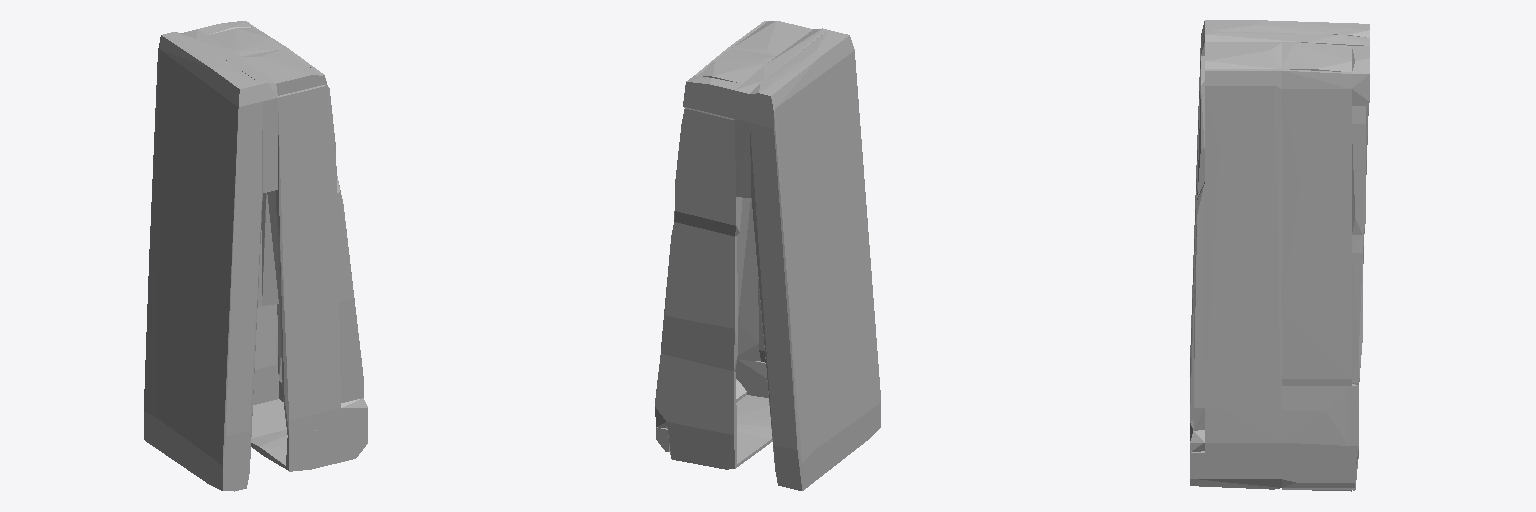
robot.urdf — root:
<robot name="root"><link name="link_1a4daa4904bb4a0949684e7f0bb99f9c_0000"><inertial><origin rpy="0 0 0" xyz="0 0 0" /><mass value="2.23E-01" /><inertia ixx="2.77E-04" ixy="-4.29E-07" ixz="-1.67E-05" iyy="2.97E-04" iyz="-6.34E-06" izz="8.98E-05" /></inertial><visual><origin rpy="0 0 0" xyz="0 0 0" /><geometry><mesh filename="package://1a4daa4904bb4a0949684e7f0bb99f9c/1a4daa4904bb4a0949684e7f0bb99f9c_0000.obj" /></geometry><material name=""><color rgba="0.75 0.75 0.75 1" /></material></visual><collision><origin rpy="0 0 0" xyz="0 0 0" /><geometry><mesh filename="package://1a4daa4904bb4a0949684e7f0bb99f9c/1a4daa4904bb4a0949684e7f0bb99f9c_0000.obj" /></geometry></collision></link><link name="link_1a4daa4904bb4a0949684e7f0bb99f9c_0001"><inertial><origin rpy="0 0 0" xyz="0 0 0" /><mass value="3.27E-02" /><inertia ixx="6.57E-05" ixy="2.87E-07" ixz="8.74E-06" iyy="6.20E-05" iyz="-1.81E-06" izz="6.44E-06" /></inertial><visual><origin rpy="0 0 0" xyz="0 0 0" /><geometry><mesh filename="package://1a4daa4904bb4a0949684e7f0bb99f9c/1a4daa4904bb4a0949684e7f0bb99f9c_0001.obj" /></geometry><material name=""><color rgba="0.75 0.75 0.75 1" /></material></visual><collision><origin rpy="0 0 0" xyz="0 0 0" /><geometry><mesh filename="package://1a4daa4904bb4a0949684e7f0bb99f9c/1a4daa4904bb4a0949684e7f0bb99f9c_0001.obj" /></geometry></collision></link><joint name="link_1a4daa4904bb4a0949684e7f0bb99f9c_0001_joint" type="fixed"><origin rpy="0 0 0" xyz="0 0 0" /><parent link="link_1a4daa4904bb4a0949684e7f0bb99f9c_0000" /><child link="link_1a4daa4904bb4a0949684e7f0bb99f9c_0001" /></joint><link name="link_1a4daa4904bb4a0949684e7f0bb99f9c_0002"><inertial><origin rpy="0 0 0" xyz="0 0 0" /><mass value="2.33E-03" /><inertia ixx="7.33E-06" ixy="5.36E-07" ixz="1.25E-06" iyy="6.55E-06" iyz="-2.65E-06" izz="1.50E-06" /></inertial><visual><origin rpy="0 0 0" xyz="0 0 0" /><geometry><mesh filename="package://1a4daa4904bb4a0949684e7f0bb99f9c/1a4daa4904bb4a0949684e7f0bb99f9c_0002.obj" /></geometry><material name=""><color rgba="0.75 0.75 0.75 1" /></material></visual><collision><origin rpy="0 0 0" xyz="0 0 0" /><geometry><mesh filename="package://1a4daa4904bb4a0949684e7f0bb99f9c/1a4daa4904bb4a0949684e7f0bb99f9c_0002.obj" /></geometry></collision></link><joint name="link_1a4daa4904bb4a0949684e7f0bb99f9c_0002_joint" type="fixed"><origin rpy="0 0 0" xyz="0 0 0" /><parent link="link_1a4daa4904bb4a0949684e7f0bb99f9c_0001" /><child link="link_1a4daa4904bb4a0949684e7f0bb99f9c_0002" /></joint><link name="link_1a4daa4904bb4a0949684e7f0bb99f9c_0003"><inertial><origin rpy="0 0 0" xyz="0 0 0" /><mass value="4.14E-03" /><inertia ixx="1.38E-05" ixy="3.32E-07" ixz="1.87E-06" iyy="1.36E-05" iyz="-2.38E-06" izz="9.66E-07" /></inertial><visual><origin rpy="0 0 0" xyz="0 0 0" /><geometry><mesh filename="package://1a4daa4904bb4a0949684e7f0bb99f9c/1a4daa4904bb4a0949684e7f0bb99f9c_0003.obj" /></geometry><material name=""><color rgba="0.75 0.75 0.75 1" /></material></visual><collision><origin rpy="0 0 0" xyz="0 0 0" /><geometry><mesh filename="package://1a4daa4904bb4a0949684e7f0bb99f9c/1a4daa4904bb4a0949684e7f0bb99f9c_0003.obj" /></geometry></collision></link><joint name="link_1a4daa4904bb4a0949684e7f0bb99f9c_0003_joint" type="fixed"><origin rpy="0 0 0" xyz="0 0 0" /><parent link="link_1a4daa4904bb4a0949684e7f0bb99f9c_0002" /><child link="link_1a4daa4904bb4a0949684e7f0bb99f9c_0003" /></joint><link name="link_1a4daa4904bb4a0949684e7f0bb99f9c_0004"><inertial><origin rpy="0 0 0" xyz="0 0 0" /><mass value="2.33E-03" /><inertia ixx="3.03E-06" ixy="-5.99E-07" ixz="-8.08E-07" iyy="2.41E-06" iyz="-1.34E-06" izz="1.36E-06" /></inertial><visual><origin rpy="0 0 0" xyz="0 0 0" /><geometry><mesh filename="package://1a4daa4904bb4a0949684e7f0bb99f9c/1a4daa4904bb4a0949684e7f0bb99f9c_0004.obj" /></geometry><material name=""><color rgba="0.75 0.75 0.75 1" /></material></visual><collision><origin rpy="0 0 0" xyz="0 0 0" /><geometry><mesh filename="package://1a4daa4904bb4a0949684e7f0bb99f9c/1a4daa4904bb4a0949684e7f0bb99f9c_0004.obj" /></geometry></collision></link><joint name="link_1a4daa4904bb4a0949684e7f0bb99f9c_0004_joint" type="fixed"><origin rpy="0 0 0" xyz="0 0 0" /><parent link="link_1a4daa4904bb4a0949684e7f0bb99f9c_0003" /><child link="link_1a4daa4904bb4a0949684e7f0bb99f9c_0004" /></joint><link name="link_1a4daa4904bb4a0949684e7f0bb99f9c_0005"><inertial><origin rpy="0 0 0" xyz="0 0 0" /><mass value="1.50E-02" /><inertia ixx="1.74E-05" ixy="1.61E-06" ixz="2.17E-08" iyy="1.16E-05" iyz="1.90E-07" izz="7.30E-06" /></inertial><visual><origin rpy="0 0 0" xyz="0 0 0" /><geometry><mesh filename="package://1a4daa4904bb4a0949684e7f0bb99f9c/1a4daa4904bb4a0949684e7f0bb99f9c_0005.obj" /></geometry><material name=""><color rgba="0.75 0.75 0.75 1" /></material></visual><collision><origin rpy="0 0 0" xyz="0 0 0" /><geometry><mesh filename="package://1a4daa4904bb4a0949684e7f0bb99f9c/1a4daa4904bb4a0949684e7f0bb99f9c_0005.obj" /></geometry></collision></link><joint name="link_1a4daa4904bb4a0949684e7f0bb99f9c_0005_joint" type="fixed"><origin rpy="0 0 0" xyz="0 0 0" /><parent link="link_1a4daa4904bb4a0949684e7f0bb99f9c_0004" /><child link="link_1a4daa4904bb4a0949684e7f0bb99f9c_0005" /></joint><link name="link_1a4daa4904bb4a0949684e7f0bb99f9c_0006"><inertial><origin rpy="0 0 0" xyz="0 0 0" /><mass value="3.67E-02" /><inertia ixx="7.59E-05" ixy="6.70E-07" ixz="-3.31E-06" iyy="7.21E-05" iyz="1.48E-05" izz="5.00E-06" /></inertial><visual><origin rpy="0 0 0" xyz="0 0 0" /><geometry><mesh filename="package://1a4daa4904bb4a0949684e7f0bb99f9c/1a4daa4904bb4a0949684e7f0bb99f9c_0006.obj" /></geometry><material name=""><color rgba="0.75 0.75 0.75 1" /></material></visual><collision><origin rpy="0 0 0" xyz="0 0 0" /><geometry><mesh filename="package://1a4daa4904bb4a0949684e7f0bb99f9c/1a4daa4904bb4a0949684e7f0bb99f9c_0006.obj" /></geometry></collision></link><joint name="link_1a4daa4904bb4a0949684e7f0bb99f9c_0006_joint" type="fixed"><origin rpy="0 0 0" xyz="0 0 0" /><parent link="link_1a4daa4904bb4a0949684e7f0bb99f9c_0005" /><child link="link_1a4daa4904bb4a0949684e7f0bb99f9c_0006" /></joint><link name="link_1a4daa4904bb4a0949684e7f0bb99f9c_0007"><inertial><origin rpy="0 0 0" xyz="0 0 0" /><mass value="2.07E-02" /><inertia ixx="2.05E-05" ixy="3.11E-06" ixz="7.16E-08" iyy="2.37E-05" iyz="1.03E-06" izz="8.08E-06" /></inertial><visual><origin rpy="0 0 0" xyz="0 0 0" /><geometry><mesh filename="package://1a4daa4904bb4a0949684e7f0bb99f9c/1a4daa4904bb4a0949684e7f0bb99f9c_0007.obj" /></geometry><material name=""><color rgba="0.75 0.75 0.75 1" /></material></visual><collision><origin rpy="0 0 0" xyz="0 0 0" /><geometry><mesh filename="package://1a4daa4904bb4a0949684e7f0bb99f9c/1a4daa4904bb4a0949684e7f0bb99f9c_0007.obj" /></geometry></collision></link><joint name="link_1a4daa4904bb4a0949684e7f0bb99f9c_0007_joint" type="fixed"><origin rpy="0 0 0" xyz="0 0 0" /><parent link="link_1a4daa4904bb4a0949684e7f0bb99f9c_0006" /><child link="link_1a4daa4904bb4a0949684e7f0bb99f9c_0007" /></joint><link name="link_1a4daa4904bb4a0949684e7f0bb99f9c_0008"><inertial><origin rpy="0 0 0" xyz="0 0 0" /><mass value="3.76E-03" /><inertia ixx="1.27E-05" ixy="-3.49E-07" ixz="2.00E-06" iyy="1.27E-05" iyz="2.15E-06" izz="9.21E-07" /></inertial><visual><origin rpy="0 0 0" xyz="0 0 0" /><geometry><mesh filename="package://1a4daa4904bb4a0949684e7f0bb99f9c/1a4daa4904bb4a0949684e7f0bb99f9c_0008.obj" /></geometry><material name=""><color rgba="0.75 0.75 0.75 1" /></material></visual><collision><origin rpy="0 0 0" xyz="0 0 0" /><geometry><mesh filename="package://1a4daa4904bb4a0949684e7f0bb99f9c/1a4daa4904bb4a0949684e7f0bb99f9c_0008.obj" /></geometry></collision></link><joint name="link_1a4daa4904bb4a0949684e7f0bb99f9c_0008_joint" type="fixed"><origin rpy="0 0 0" xyz="0 0 0" /><parent link="link_1a4daa4904bb4a0949684e7f0bb99f9c_0007" /><child link="link_1a4daa4904bb4a0949684e7f0bb99f9c_0008" /></joint><link name="link_1a4daa4904bb4a0949684e7f0bb99f9c_0009"><inertial><origin rpy="0 0 0" xyz="0 0 0" /><mass value="4.51E-03" /><inertia ixx="1.05E-05" ixy="-7.29E-07" ixz="1.63E-06" iyy="9.26E-06" iyz="3.81E-06" izz="2.18E-06" /></inertial><visual><origin rpy="0 0 0" xyz="0 0 0" /><geometry><mesh filename="package://1a4daa4904bb4a0949684e7f0bb99f9c/1a4daa4904bb4a0949684e7f0bb99f9c_0009.obj" /></geometry><material name=""><color rgba="0.75 0.75 0.75 1" /></material></visual><collision><origin rpy="0 0 0" xyz="0 0 0" /><geometry><mesh filename="package://1a4daa4904bb4a0949684e7f0bb99f9c/1a4daa4904bb4a0949684e7f0bb99f9c_0009.obj" /></geometry></collision></link><joint name="link_1a4daa4904bb4a0949684e7f0bb99f9c_0009_joint" type="fixed"><origin rpy="0 0 0" xyz="0 0 0" /><parent link="link_1a4daa4904bb4a0949684e7f0bb99f9c_0008" /><child link="link_1a4daa4904bb4a0949684e7f0bb99f9c_0009" /></joint><link name="link_1a4daa4904bb4a0949684e7f0bb99f9c_0010"><inertial><origin rpy="0 0 0" xyz="0 0 0" /><mass value="1.79E-03" /><inertia ixx="5.37E-06" ixy="-3.83E-07" ixz="1.95E-06" iyy="5.87E-06" iyz="1.00E-06" izz="9.96E-07" /></inertial><visual><origin rpy="0 0 0" xyz="0 0 0" /><geometry><mesh filename="package://1a4daa4904bb4a0949684e7f0bb99f9c/1a4daa4904bb4a0949684e7f0bb99f9c_0010.obj" /></geometry><material name=""><color rgba="0.75 0.75 0.75 1" /></material></visual><collision><origin rpy="0 0 0" xyz="0 0 0" /><geometry><mesh filename="package://1a4daa4904bb4a0949684e7f0bb99f9c/1a4daa4904bb4a0949684e7f0bb99f9c_0010.obj" /></geometry></collision></link><joint name="link_1a4daa4904bb4a0949684e7f0bb99f9c_0010_joint" type="fixed"><origin rpy="0 0 0" xyz="0 0 0" /><parent link="link_1a4daa4904bb4a0949684e7f0bb99f9c_0009" /><child link="link_1a4daa4904bb4a0949684e7f0bb99f9c_0010" /></joint><link name="link_1a4daa4904bb4a0949684e7f0bb99f9c_0011"><inertial><origin rpy="0 0 0" xyz="0 0 0" /><mass value="3.31E-02" /><inertia ixx="6.69E-05" ixy="-5.85E-07" ixz="-2.85E-06" iyy="6.35E-05" iyz="-1.34E-05" izz="4.41E-06" /></inertial><visual><origin rpy="0 0 0" xyz="0 0 0" /><geometry><mesh filename="package://1a4daa4904bb4a0949684e7f0bb99f9c/1a4daa4904bb4a0949684e7f0bb99f9c_0011.obj" /></geometry><material name=""><color rgba="0.75 0.75 0.75 1" /></material></visual><collision><origin rpy="0 0 0" xyz="0 0 0" /><geometry><mesh filename="package://1a4daa4904bb4a0949684e7f0bb99f9c/1a4daa4904bb4a0949684e7f0bb99f9c_0011.obj" /></geometry></collision></link><joint name="link_1a4daa4904bb4a0949684e7f0bb99f9c_0011_joint" type="fixed"><origin rpy="0 0 0" xyz="0 0 0" /><parent link="link_1a4daa4904bb4a0949684e7f0bb99f9c_0010" /><child link="link_1a4daa4904bb4a0949684e7f0bb99f9c_0011" /></joint><link name="link_1a4daa4904bb4a0949684e7f0bb99f9c_0012"><inertial><origin rpy="0 0 0" xyz="0 0 0" /><mass value="1.54E-02" /><inertia ixx="1.35E-05" ixy="-2.23E-06" ixz="-2.26E-06" iyy="1.53E-05" iyz="-2.00E-06" izz="5.47E-06" /></inertial><visual><origin rpy="0 0 0" xyz="0 0 0" /><geometry><mesh filename="package://1a4daa4904bb4a0949684e7f0bb99f9c/1a4daa4904bb4a0949684e7f0bb99f9c_0012.obj" /></geometry><material name=""><color rgba="0.75 0.75 0.75 1" /></material></visual><collision><origin rpy="0 0 0" xyz="0 0 0" /><geometry><mesh filename="package://1a4daa4904bb4a0949684e7f0bb99f9c/1a4daa4904bb4a0949684e7f0bb99f9c_0012.obj" /></geometry></collision></link><joint name="link_1a4daa4904bb4a0949684e7f0bb99f9c_0012_joint" type="fixed"><origin rpy="0 0 0" xyz="0 0 0" /><parent link="link_1a4daa4904bb4a0949684e7f0bb99f9c_0011" /><child link="link_1a4daa4904bb4a0949684e7f0bb99f9c_0012" /></joint><link name="link_1a4daa4904bb4a0949684e7f0bb99f9c_0013"><inertial><origin rpy="0 0 0" xyz="0 0 0" /><mass value="1.40E-03" /><inertia ixx="4.37E-06" ixy="2.74E-07" ixz="1.51E-06" iyy="4.73E-06" iyz="-7.54E-07" izz="7.40E-07" /></inertial><visual><origin rpy="0 0 0" xyz="0 0 0" /><geometry><mesh filename="package://1a4daa4904bb4a0949684e7f0bb99f9c/1a4daa4904bb4a0949684e7f0bb99f9c_0013.obj" /></geometry><material name=""><color rgba="0.75 0.75 0.75 1" /></material></visual><collision><origin rpy="0 0 0" xyz="0 0 0" /><geometry><mesh filename="package://1a4daa4904bb4a0949684e7f0bb99f9c/1a4daa4904bb4a0949684e7f0bb99f9c_0013.obj" /></geometry></collision></link><joint name="link_1a4daa4904bb4a0949684e7f0bb99f9c_0013_joint" type="fixed"><origin rpy="0 0 0" xyz="0 0 0" /><parent link="link_1a4daa4904bb4a0949684e7f0bb99f9c_0012" /><child link="link_1a4daa4904bb4a0949684e7f0bb99f9c_0013" /></joint><link name="link_1a4daa4904bb4a0949684e7f0bb99f9c_0014"><inertial><origin rpy="0 0 0" xyz="0 0 0" /><mass value="6.74E-04" /><inertia ixx="1.72E-06" ixy="1.51E-07" ixz="7.24E-07" iyy="1.95E-06" iyz="-3.39E-07" izz="4.21E-07" /></inertial><visual><origin rpy="0 0 0" xyz="0 0 0" /><geometry><mesh filename="package://1a4daa4904bb4a0949684e7f0bb99f9c/1a4daa4904bb4a0949684e7f0bb99f9c_0014.obj" /></geometry><material name=""><color rgba="0.75 0.75 0.75 1" /></material></visual><collision><origin rpy="0 0 0" xyz="0 0 0" /><geometry><mesh filename="package://1a4daa4904bb4a0949684e7f0bb99f9c/1a4daa4904bb4a0949684e7f0bb99f9c_0014.obj" /></geometry></collision></link><joint name="link_1a4daa4904bb4a0949684e7f0bb99f9c_0014_joint" type="fixed"><origin rpy="0 0 0" xyz="0 0 0" /><parent link="link_1a4daa4904bb4a0949684e7f0bb99f9c_0013" /><child link="link_1a4daa4904bb4a0949684e7f0bb99f9c_0014" /></joint><link name="link_1a4daa4904bb4a0949684e7f0bb99f9c_0015"><inertial><origin rpy="0 0 0" xyz="0 0 0" /><mass value="6.04E-04" /><inertia ixx="1.39E-06" ixy="2.41E-07" ixz="4.83E-07" iyy="1.33E-06" iyz="-5.56E-07" izz="4.90E-07" /></inertial><visual><origin rpy="0 0 0" xyz="0 0 0" /><geometry><mesh filename="package://1a4daa4904bb4a0949684e7f0bb99f9c/1a4daa4904bb4a0949684e7f0bb99f9c_0015.obj" /></geometry><material name=""><color rgba="0.75 0.75 0.75 1" /></material></visual><collision><origin rpy="0 0 0" xyz="0 0 0" /><geometry><mesh filename="package://1a4daa4904bb4a0949684e7f0bb99f9c/1a4daa4904bb4a0949684e7f0bb99f9c_0015.obj" /></geometry></collision></link><joint name="link_1a4daa4904bb4a0949684e7f0bb99f9c_0015_joint" type="fixed"><origin rpy="0 0 0" xyz="0 0 0" /><parent link="link_1a4daa4904bb4a0949684e7f0bb99f9c_0014" /><child link="link_1a4daa4904bb4a0949684e7f0bb99f9c_0015" /></joint><link name="link_1a4daa4904bb4a0949684e7f0bb99f9c_0016"><inertial><origin rpy="0 0 0" xyz="0 0 0" /><mass value="3.48E-03" /><inertia ixx="3.23E-06" ixy="1.22E-06" ixz="9.71E-07" iyy="2.75E-06" iyz="-1.13E-06" izz="2.50E-06" /></inertial><visual><origin rpy="0 0 0" xyz="0 0 0" /><geometry><mesh filename="package://1a4daa4904bb4a0949684e7f0bb99f9c/1a4daa4904bb4a0949684e7f0bb99f9c_0016.obj" /></geometry><material name=""><color rgba="0.75 0.75 0.75 1" /></material></visual><collision><origin rpy="0 0 0" xyz="0 0 0" /><geometry><mesh filename="package://1a4daa4904bb4a0949684e7f0bb99f9c/1a4daa4904bb4a0949684e7f0bb99f9c_0016.obj" /></geometry></collision></link><joint name="link_1a4daa4904bb4a0949684e7f0bb99f9c_0016_joint" type="fixed"><origin rpy="0 0 0" xyz="0 0 0" /><parent link="link_1a4daa4904bb4a0949684e7f0bb99f9c_0015" /><child link="link_1a4daa4904bb4a0949684e7f0bb99f9c_0016" /></joint><link name="link_1a4daa4904bb4a0949684e7f0bb99f9c_0017"><inertial><origin rpy="0 0 0" xyz="0 0 0" /><mass value="3.22E-03" /><inertia ixx="5.41E-06" ixy="-6.12E-07" ixz="2.66E-06" iyy="6.49E-06" iyz="1.15E-06" izz="1.76E-06" /></inertial><visual><origin rpy="0 0 0" xyz="0 0 0" /><geometry><mesh filename="package://1a4daa4904bb4a0949684e7f0bb99f9c/1a4daa4904bb4a0949684e7f0bb99f9c_0017.obj" /></geometry><material name=""><color rgba="0.75 0.75 0.75 1" /></material></visual><collision><origin rpy="0 0 0" xyz="0 0 0" /><geometry><mesh filename="package://1a4daa4904bb4a0949684e7f0bb99f9c/1a4daa4904bb4a0949684e7f0bb99f9c_0017.obj" /></geometry></collision></link><joint name="link_1a4daa4904bb4a0949684e7f0bb99f9c_0017_joint" type="fixed"><origin rpy="0 0 0" xyz="0 0 0" /><parent link="link_1a4daa4904bb4a0949684e7f0bb99f9c_0016" /><child link="link_1a4daa4904bb4a0949684e7f0bb99f9c_0017" /></joint><link name="link_1a4daa4904bb4a0949684e7f0bb99f9c_0018"><inertial><origin rpy="0 0 0" xyz="0 0 0" /><mass value="8.53E-04" /><inertia ixx="1.70E-06" ixy="-3.30E-07" ixz="6.93E-07" iyy="1.74E-06" iyz="6.47E-07" izz="6.63E-07" /></inertial><visual><origin rpy="0 0 0" xyz="0 0 0" /><geometry><mesh filename="package://1a4daa4904bb4a0949684e7f0bb99f9c/1a4daa4904bb4a0949684e7f0bb99f9c_0018.obj" /></geometry><material name=""><color rgba="0.75 0.75 0.75 1" /></material></visual><collision><origin rpy="0 0 0" xyz="0 0 0" /><geometry><mesh filename="package://1a4daa4904bb4a0949684e7f0bb99f9c/1a4daa4904bb4a0949684e7f0bb99f9c_0018.obj" /></geometry></collision></link><joint name="link_1a4daa4904bb4a0949684e7f0bb99f9c_0018_joint" type="fixed"><origin rpy="0 0 0" xyz="0 0 0" /><parent link="link_1a4daa4904bb4a0949684e7f0bb99f9c_0017" /><child link="link_1a4daa4904bb4a0949684e7f0bb99f9c_0018" /></joint><link name="link_1a4daa4904bb4a0949684e7f0bb99f9c_0019"><inertial><origin rpy="0 0 0" xyz="0 0 0" /><mass value="4.88E-03" /><inertia ixx="2.94E-06" ixy="-5.46E-07" ixz="2.25E-07" iyy="1.16E-06" iyz="8.16E-07" izz="2.31E-06" /></inertial><visual><origin rpy="0 0 0" xyz="0 0 0" /><geometry><mesh filename="package://1a4daa4904bb4a0949684e7f0bb99f9c/1a4daa4904bb4a0949684e7f0bb99f9c_0019.obj" /></geometry><material name=""><color rgba="0.75 0.75 0.75 1" /></material></visual><collision><origin rpy="0 0 0" xyz="0 0 0" /><geometry><mesh filename="package://1a4daa4904bb4a0949684e7f0bb99f9c/1a4daa4904bb4a0949684e7f0bb99f9c_0019.obj" /></geometry></collision></link><joint name="link_1a4daa4904bb4a0949684e7f0bb99f9c_0019_joint" type="fixed"><origin rpy="0 0 0" xyz="0 0 0" /><parent link="link_1a4daa4904bb4a0949684e7f0bb99f9c_0018" /><child link="link_1a4daa4904bb4a0949684e7f0bb99f9c_0019" /></joint><link name="link_1a4daa4904bb4a0949684e7f0bb99f9c_0020"><inertial><origin rpy="0 0 0" xyz="0 0 0" /><mass value="2.15E-03" /><inertia ixx="1.31E-06" ixy="-7.03E-07" ixz="3.63E-07" iyy="1.04E-06" iyz="4.20E-07" izz="1.44E-06" /></inertial><visual><origin rpy="0 0 0" xyz="0 0 0" /><geometry><mesh filename="package://1a4daa4904bb4a0949684e7f0bb99f9c/1a4daa4904bb4a0949684e7f0bb99f9c_0020.obj" /></geometry><material name=""><color rgba="0.75 0.75 0.75 1" /></material></visual><collision><origin rpy="0 0 0" xyz="0 0 0" /><geometry><mesh filename="package://1a4daa4904bb4a0949684e7f0bb99f9c/1a4daa4904bb4a0949684e7f0bb99f9c_0020.obj" /></geometry></collision></link><joint name="link_1a4daa4904bb4a0949684e7f0bb99f9c_0020_joint" type="fixed"><origin rpy="0 0 0" xyz="0 0 0" /><parent link="link_1a4daa4904bb4a0949684e7f0bb99f9c_0019" /><child link="link_1a4daa4904bb4a0949684e7f0bb99f9c_0020" /></joint><link name="link_1a4daa4904bb4a0949684e7f0bb99f9c_0021"><inertial><origin rpy="0 0 0" xyz="0 0 0" /><mass value="3.37E-03" /><inertia ixx="1.07E-05" ixy="-2.62E-07" ixz="-6.54E-07" iyy="9.32E-06" iyz="-3.66E-06" izz="1.58E-06" /></inertial><visual><origin rpy="0 0 0" xyz="0 0 0" /><geometry><mesh filename="package://1a4daa4904bb4a0949684e7f0bb99f9c/1a4daa4904bb4a0949684e7f0bb99f9c_0021.obj" /></geometry><material name=""><color rgba="0.75 0.75 0.75 1" /></material></visual><collision><origin rpy="0 0 0" xyz="0 0 0" /><geometry><mesh filename="package://1a4daa4904bb4a0949684e7f0bb99f9c/1a4daa4904bb4a0949684e7f0bb99f9c_0021.obj" /></geometry></collision></link><joint name="link_1a4daa4904bb4a0949684e7f0bb99f9c_0021_joint" type="fixed"><origin rpy="0 0 0" xyz="0 0 0" /><parent link="link_1a4daa4904bb4a0949684e7f0bb99f9c_0020" /><child link="link_1a4daa4904bb4a0949684e7f0bb99f9c_0021" /></joint><link name="link_1a4daa4904bb4a0949684e7f0bb99f9c_0022"><inertial><origin rpy="0 0 0" xyz="0 0 0" /><mass value="7.60E-03" /><inertia ixx="1.14E-05" ixy="-4.03E-07" ixz="-5.93E-07" iyy="8.35E-06" iyz="-4.91E-06" izz="3.39E-06" /></inertial><visual><origin rpy="0 0 0" xyz="0 0 0" /><geometry><mesh filename="package://1a4daa4904bb4a0949684e7f0bb99f9c/1a4daa4904bb4a0949684e7f0bb99f9c_0022.obj" /></geometry><material name=""><color rgba="0.75 0.75 0.75 1" /></material></visual><collision><origin rpy="0 0 0" xyz="0 0 0" /><geometry><mesh filename="package://1a4daa4904bb4a0949684e7f0bb99f9c/1a4daa4904bb4a0949684e7f0bb99f9c_0022.obj" /></geometry></collision></link><joint name="link_1a4daa4904bb4a0949684e7f0bb99f9c_0022_joint" type="fixed"><origin rpy="0 0 0" xyz="0 0 0" /><parent link="link_1a4daa4904bb4a0949684e7f0bb99f9c_0021" /><child link="link_1a4daa4904bb4a0949684e7f0bb99f9c_0022" /></joint></robot>

--- What the picture shows (computed from the rendered views, not written in the file) ---
3 views of the same robot in one strip: view 1: azimuth 30°, elevation 25°; view 2: azimuth 150°, elevation 25°; view 3: azimuth 270°, elevation 25° (orthographic).
Model root with 23 links and 22 joints (22 fixed), rooted at link_1a4daa4904bb4a0949684e7f0bb99f9c_0000, posed all joints at 0.
Visible links, largest first — view 1: link_1a4daa4904bb4a0949684e7f0bb99f9c_0000, link_1a4daa4904bb4a0949684e7f0bb99f9c_0005, link_1a4daa4904bb4a0949684e7f0bb99f9c_0016, link_1a4daa4904bb4a0949684e7f0bb99f9c_0002, link_1a4daa4904bb4a0949684e7f0bb99f9c_0001, link_1a4daa4904bb4a0949684e7f0bb99f9c_0009, link_1a4daa4904bb4a0949684e7f0bb99f9c_0006, link_1a4daa4904bb4a0949684e7f0bb99f9c_0011, link_1a4daa4904bb4a0949684e7f0bb99f9c_0020, link_1a4daa4904bb4a0949684e7f0bb99f9c_0008, link_1a4daa4904bb4a0949684e7f0bb99f9c_0003, link_1a4daa4904bb4a0949684e7f0bb99f9c_0012 (+1 smaller); view 2: link_1a4daa4904bb4a0949684e7f0bb99f9c_0000, link_1a4daa4904bb4a0949684e7f0bb99f9c_0019, link_1a4daa4904bb4a0949684e7f0bb99f9c_0009, link_1a4daa4904bb4a0949684e7f0bb99f9c_0022, link_1a4daa4904bb4a0949684e7f0bb99f9c_0001, link_1a4daa4904bb4a0949684e7f0bb99f9c_0016, link_1a4daa4904bb4a0949684e7f0bb99f9c_0020, link_1a4daa4904bb4a0949684e7f0bb99f9c_0021, link_1a4daa4904bb4a0949684e7f0bb99f9c_0006, link_1a4daa4904bb4a0949684e7f0bb99f9c_0004, link_1a4daa4904bb4a0949684e7f0bb99f9c_0011, link_1a4daa4904bb4a0949684e7f0bb99f9c_0003 (+4 smaller); view 3: link_1a4daa4904bb4a0949684e7f0bb99f9c_0007, link_1a4daa4904bb4a0949684e7f0bb99f9c_0012, link_1a4daa4904bb4a0949684e7f0bb99f9c_0017, link_1a4daa4904bb4a0949684e7f0bb99f9c_0016, link_1a4daa4904bb4a0949684e7f0bb99f9c_0000, link_1a4daa4904bb4a0949684e7f0bb99f9c_0006, link_1a4daa4904bb4a0949684e7f0bb99f9c_0014, link_1a4daa4904bb4a0949684e7f0bb99f9c_0011, link_1a4daa4904bb4a0949684e7f0bb99f9c_0004, link_1a4daa4904bb4a0949684e7f0bb99f9c_0001, link_1a4daa4904bb4a0949684e7f0bb99f9c_0020, link_1a4daa4904bb4a0949684e7f0bb99f9c_0010 (+4 smaller).
Boxes of the visible links, <box> form: link_1a4daa4904bb4a0949684e7f0bb99f9c_0000: <box>144,32,262,491</box>; link_1a4daa4904bb4a0949684e7f0bb99f9c_0005: <box>276,85,340,436</box>; link_1a4daa4904bb4a0949684e7f0bb99f9c_0016: <box>337,176,363,402</box>; link_1a4daa4904bb4a0949684e7f0bb99f9c_0002: <box>286,418,367,471</box>; link_1a4daa4904bb4a0949684e7f0bb99f9c_0001: <box>184,29,277,192</box>; link_1a4daa4904bb4a0949684e7f0bb99f9c_0009: <box>253,304,278,404</box>; link_1a4daa4904bb4a0949684e7f0bb99f9c_0006: <box>240,49,321,95</box>; link_1a4daa4904bb4a0949684e7f0bb99f9c_0011: <box>208,28,284,56</box>; link_1a4daa4904bb4a0949684e7f0bb99f9c_0020: <box>261,193,278,305</box>; link_1a4daa4904bb4a0949684e7f0bb99f9c_0008: <box>251,399,286,437</box>; link_1a4daa4904bb4a0949684e7f0bb99f9c_0003: <box>251,430,287,468</box>; link_1a4daa4904bb4a0949684e7f0bb99f9c_0012: <box>252,27,286,303</box>; link_1a4daa4904bb4a0949684e7f0bb99f9c_0000: <box>750,30,880,490</box>; link_1a4daa4904bb4a0949684e7f0bb99f9c_0019: <box>680,223,737,370</box>; link_1a4daa4904bb4a0949684e7f0bb99f9c_0009: <box>667,355,736,469</box>; link_1a4daa4904bb4a0949684e7f0bb99f9c_0022: <box>691,110,742,236</box>; link_1a4daa4904bb4a0949684e7f0bb99f9c_0001: <box>735,28,827,197</box>; link_1a4daa4904bb4a0949684e7f0bb99f9c_0016: <box>738,198,758,343</box>; link_1a4daa4904bb4a0949684e7f0bb99f9c_0020: <box>661,222,681,358</box>; link_1a4daa4904bb4a0949684e7f0bb99f9c_0021: <box>683,75,741,119</box>; link_1a4daa4904bb4a0949684e7f0bb99f9c_0006: <box>732,21,812,55</box>; link_1a4daa4904bb4a0949684e7f0bb99f9c_0004: <box>674,109,691,225</box>; link_1a4daa4904bb4a0949684e7f0bb99f9c_0011: <box>698,48,775,83</box>; link_1a4daa4904bb4a0949684e7f0bb99f9c_0003: <box>736,395,772,441</box>; link_1a4daa4904bb4a0949684e7f0bb99f9c_0007: <box>1205,69,1281,452</box>; link_1a4daa4904bb4a0949684e7f0bb99f9c_0012: <box>1282,69,1351,385</box>; link_1a4daa4904bb4a0949684e7f0bb99f9c_0017: <box>1282,386,1347,468</box>; link_1a4daa4904bb4a0949684e7f0bb99f9c_0016: <box>1194,182,1204,430</box>; link_1a4daa4904bb4a0949684e7f0bb99f9c_0000: <box>1190,20,1369,383</box>; link_1a4daa4904bb4a0949684e7f0bb99f9c_0006: <box>1205,42,1281,68</box>; link_1a4daa4904bb4a0949684e7f0bb99f9c_0014: <box>1197,451,1281,475</box>; link_1a4daa4904bb4a0949684e7f0bb99f9c_0011: <box>1282,42,1351,71</box>; link_1a4daa4904bb4a0949684e7f0bb99f9c_0004: <box>1352,106,1365,234</box>; link_1a4daa4904bb4a0949684e7f0bb99f9c_0001: <box>1201,31,1369,156</box>; link_1a4daa4904bb4a0949684e7f0bb99f9c_0020: <box>1352,235,1362,385</box>; link_1a4daa4904bb4a0949684e7f0bb99f9c_0010: <box>1282,469,1354,487</box>.
Bounding box of the posed robot: 0.0452 × 0.0462 × 0.1178 m (x, y, z).
Meshes: 23 distinct files referenced, 23 mesh visuals loaded (23 OBJ).
